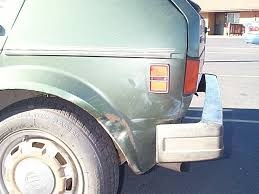Dent: (125, 75, 141, 90)
Scratch: (95, 106, 137, 147)
